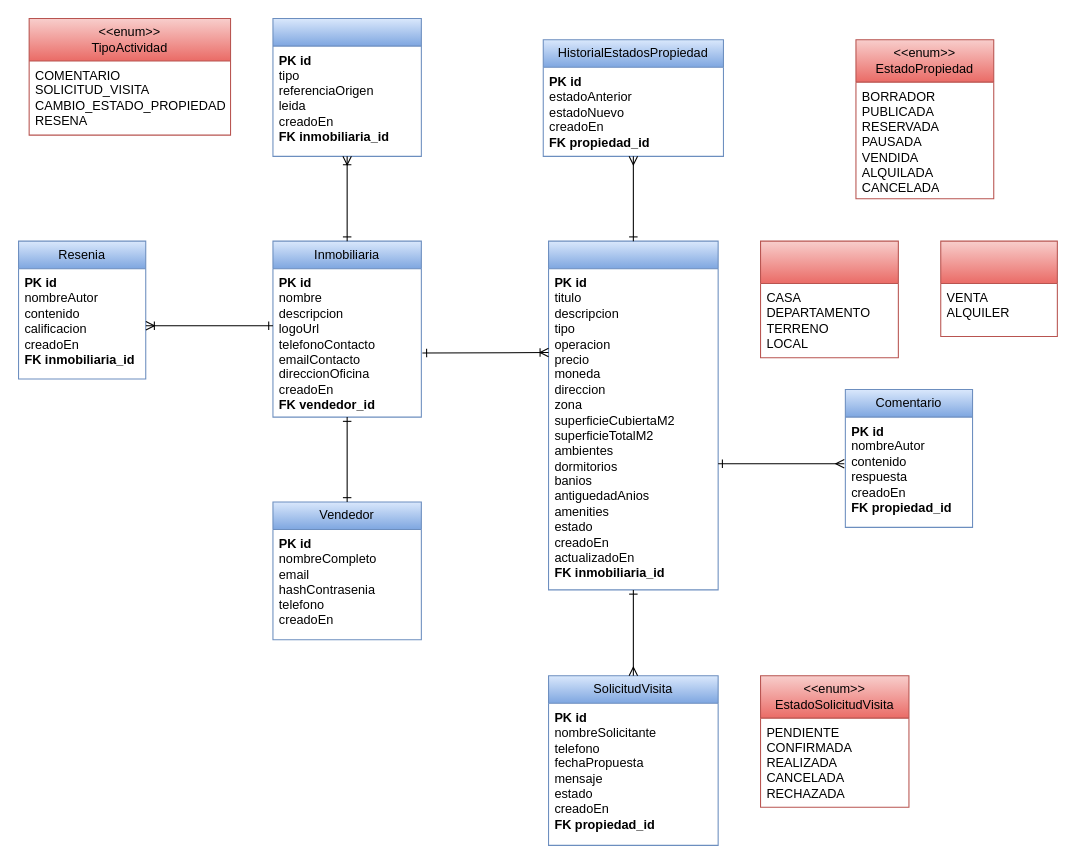
Some shapes in this 1076 by 867 pixel diagram are drawn without their labels. Here are the shapes that lost their labels. From the top down, the box of each, then its label:
(272, 17, 421, 156): Actividad
(759, 240, 898, 358): <<enum>> TipoPropiedad
(940, 240, 1057, 337): <<enum>> Operacion
(547, 240, 718, 590): Propiedad
